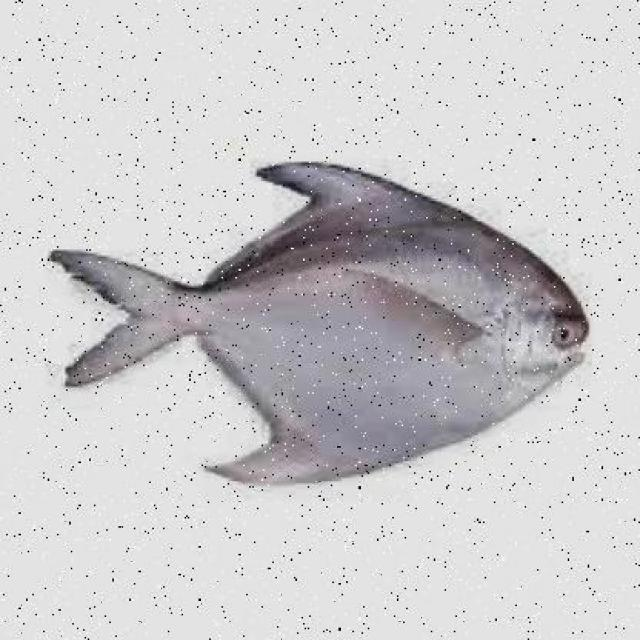ikan-pacu: (59, 159, 590, 481)
